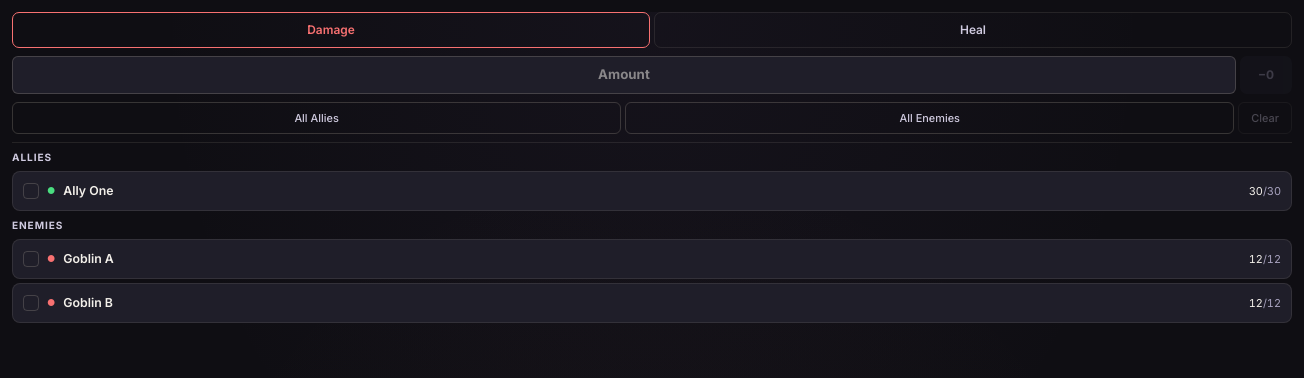
Scenario: AoeDamage component › clears selection after apply
Click the button "All Enemies".
click(930, 118)  # box [625,102,1234,134]
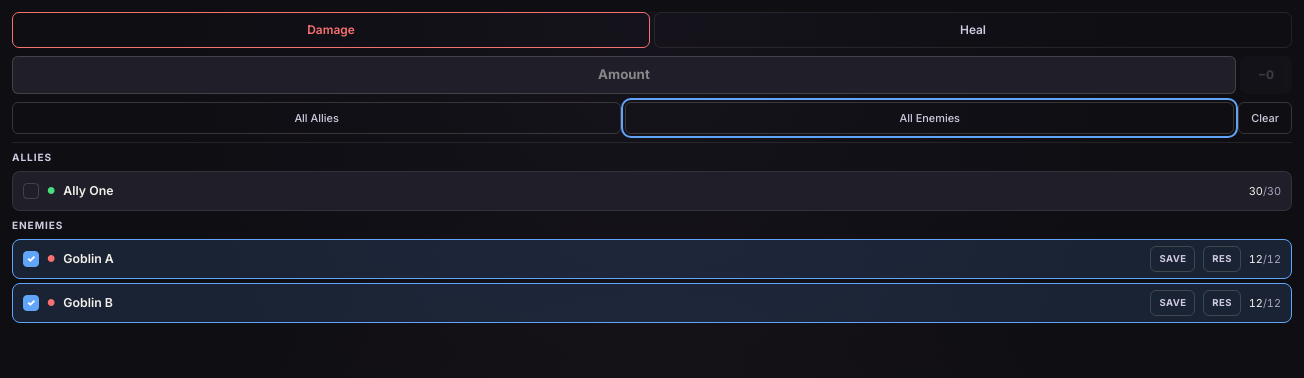
Type "3" into the field labelled "Amount".
click(624, 75); type("3")  # box [12,56,1236,94]
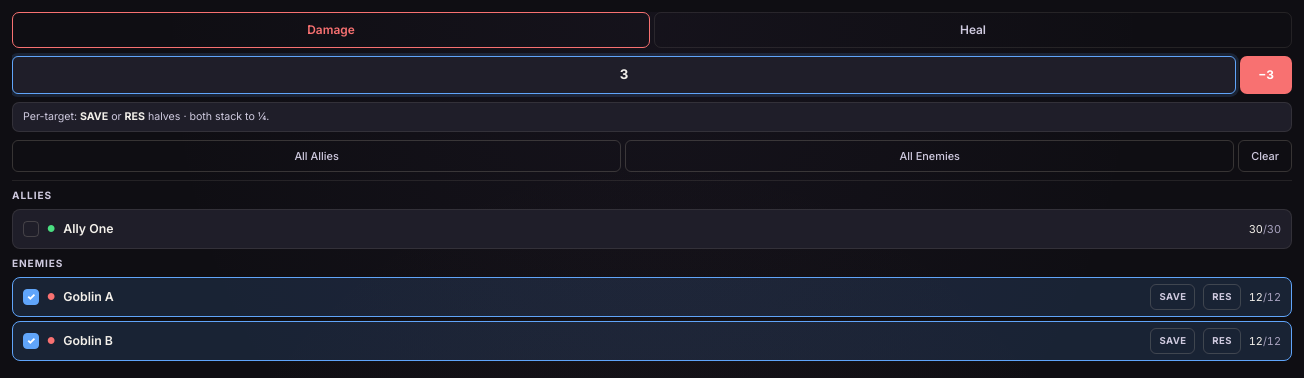
Click the button "−3".
click(1266, 75)  # box [1240,56,1292,94]
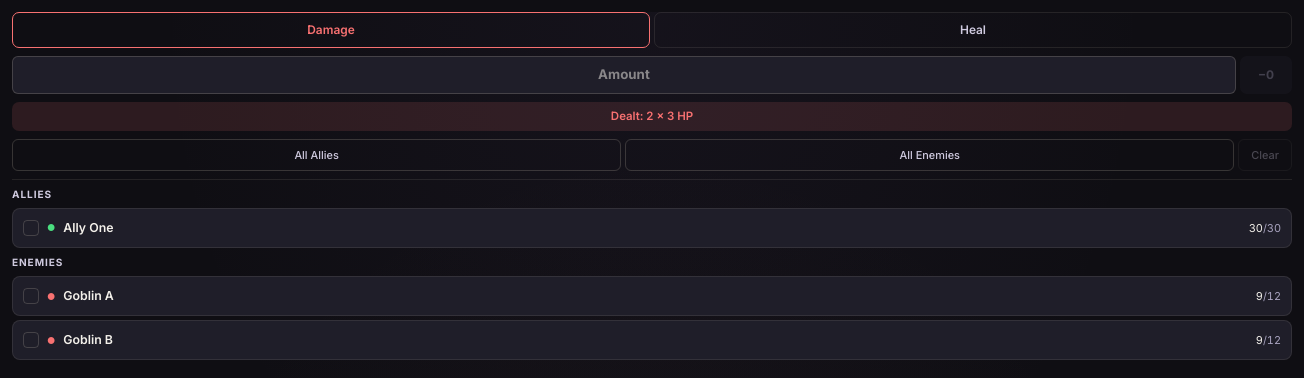
expect the button "−0" is disabled: met, box [1240,56,1292,94]
